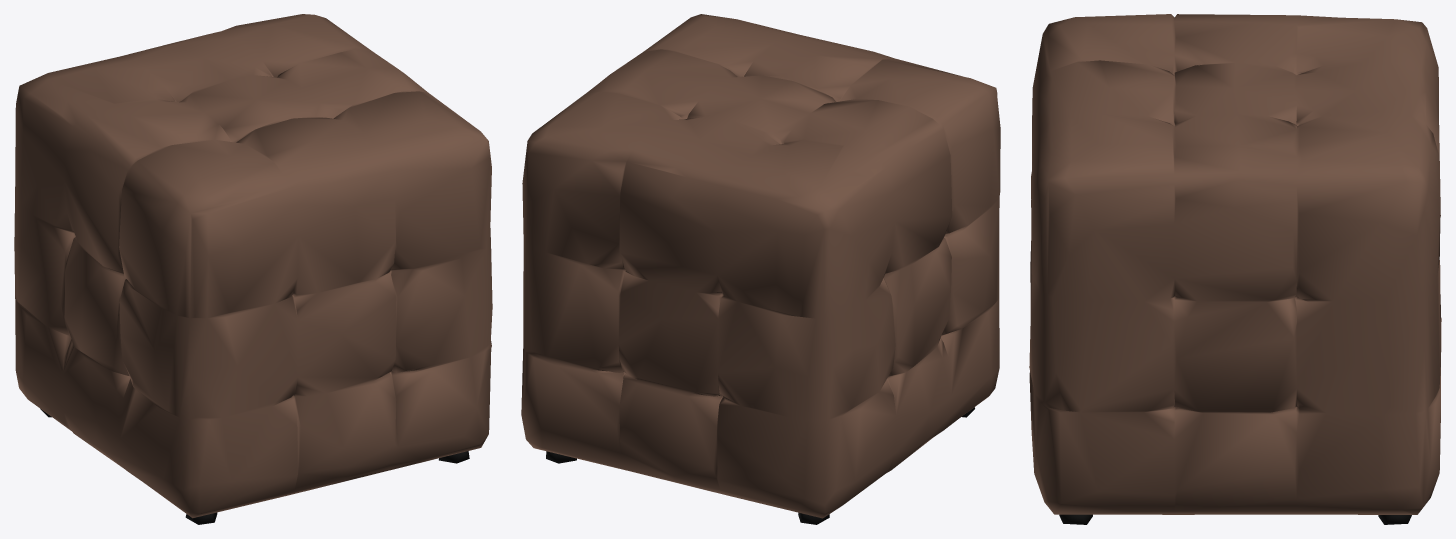
The model's file is Pouf-Modelo3D.fbx.
3 views of the same model, side by side, from view 1: azimuth 30°, elevation 25°; view 2: azimuth 150°, elevation 25°; view 3: azimuth 270°, elevation 25° (orthographic). The views are drawn at different scales.
Visible parts, largest first — view 1: Pouf; view 2: Pouf; view 3: Pouf.
Part boxes in pixels (box(x1,y1,x2,y2)): Pouf: box(14, 14, 492, 524); Pouf: box(521, 14, 1000, 524); Pouf: box(1029, 14, 1441, 524).
Size of the model in its own units: 79.24 by 78.41 by 79.4.
